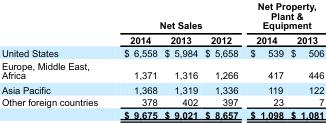table: (0, 0, 323, 119)
table column: (0, 0, 110, 119), (110, 0, 160, 119), (200, 0, 243, 119), (243, 0, 286, 119), (160, 0, 200, 119), (286, 0, 323, 119)
table column header: (0, 0, 323, 46)
table row: (0, 0, 323, 32), (0, 59, 323, 82), (0, 32, 323, 46), (0, 46, 323, 59), (0, 82, 323, 95), (0, 95, 323, 108), (0, 108, 323, 119)
table spanning cell: (110, 0, 243, 32), (243, 0, 323, 32)
